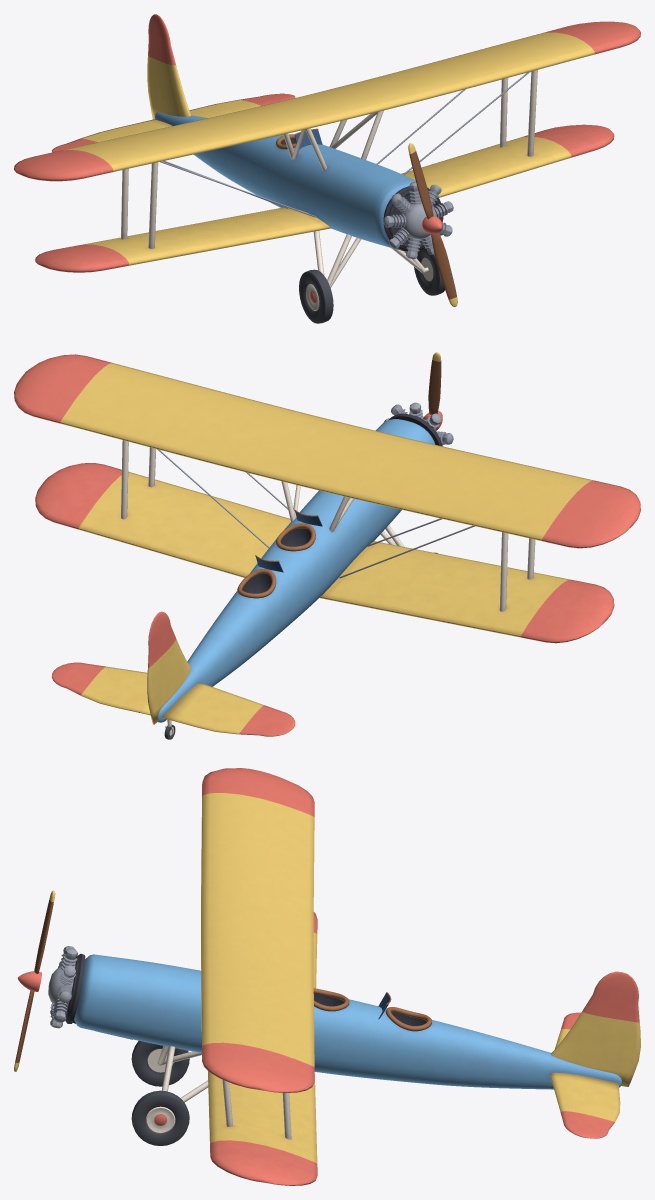
Rendered from biplane.glb.
The picture shows the model from 3 angles, top to bottom: view 1: azimuth 30°, elevation 25°; view 2: azimuth 150°, elevation 25°; view 3: azimuth 270°, elevation 25°; orthographic projection. The views are drawn at different scales.
Visible parts, largest first — view 1: biplane_body, biplane_propeller, biplane_wheel_main_r, biplane_wheel_main_l; view 2: biplane_body, biplane_propeller; view 3: biplane_body, biplane_wheel_main_l, biplane_wheel_main_r, biplane_propeller.
Boxes of the visible parts, box(x1,y1,x2,y2) form: biplane_body: box(14, 14, 640, 287); biplane_propeller: box(408, 143, 457, 306); biplane_wheel_main_r: box(299, 269, 333, 323); biplane_wheel_main_l: box(414, 248, 444, 295); biplane_body: box(14, 354, 640, 736); biplane_propeller: box(423, 352, 442, 430); biplane_body: box(48, 768, 640, 1185); biplane_wheel_main_l: box(131, 1090, 189, 1145); biplane_wheel_main_r: box(131, 1041, 189, 1086); biplane_propeller: box(14, 890, 55, 1071).
Bounding box in the file's own units: 9.82 × 3.14 × 8.2.
Materials: 14 (1 with a texture image).
